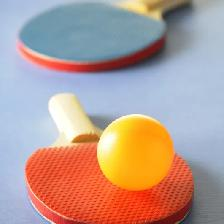YellowBall: (95, 113, 175, 191)
